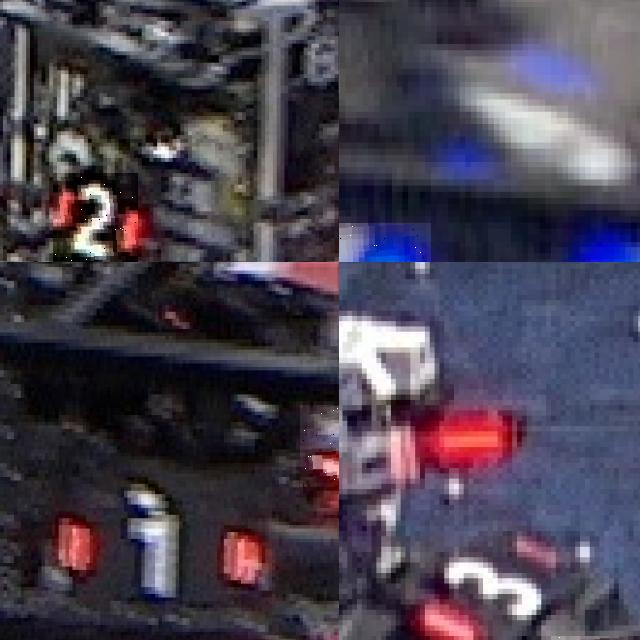R1: (36, 499, 260, 596), (299, 404, 339, 487)
R2: (53, 173, 138, 262)
